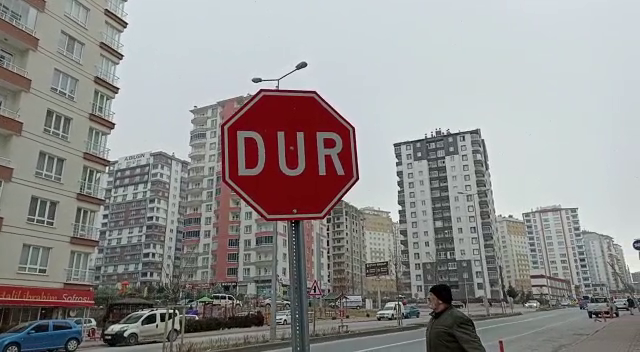stop: (219, 88, 362, 224)
